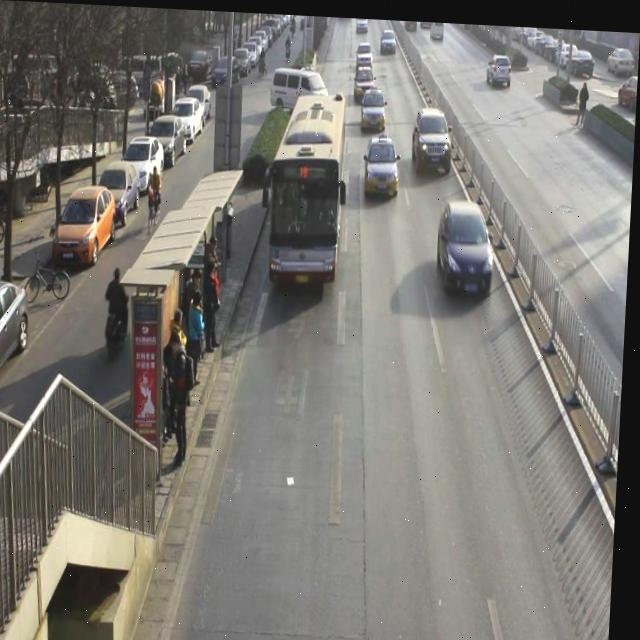car: (436, 202, 498, 298), (413, 104, 456, 174), (361, 85, 389, 128), (488, 49, 515, 84), (355, 63, 378, 101), (355, 39, 375, 73), (301, 62, 319, 99), (380, 27, 398, 54)
truck: (366, 133, 404, 199), (292, 66, 326, 117)
van: (268, 86, 348, 284)
